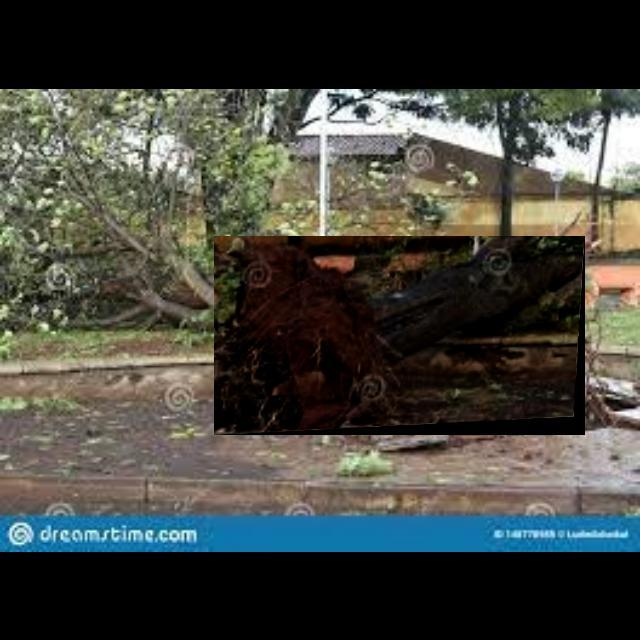fallen_tree: (214, 236, 586, 436)
